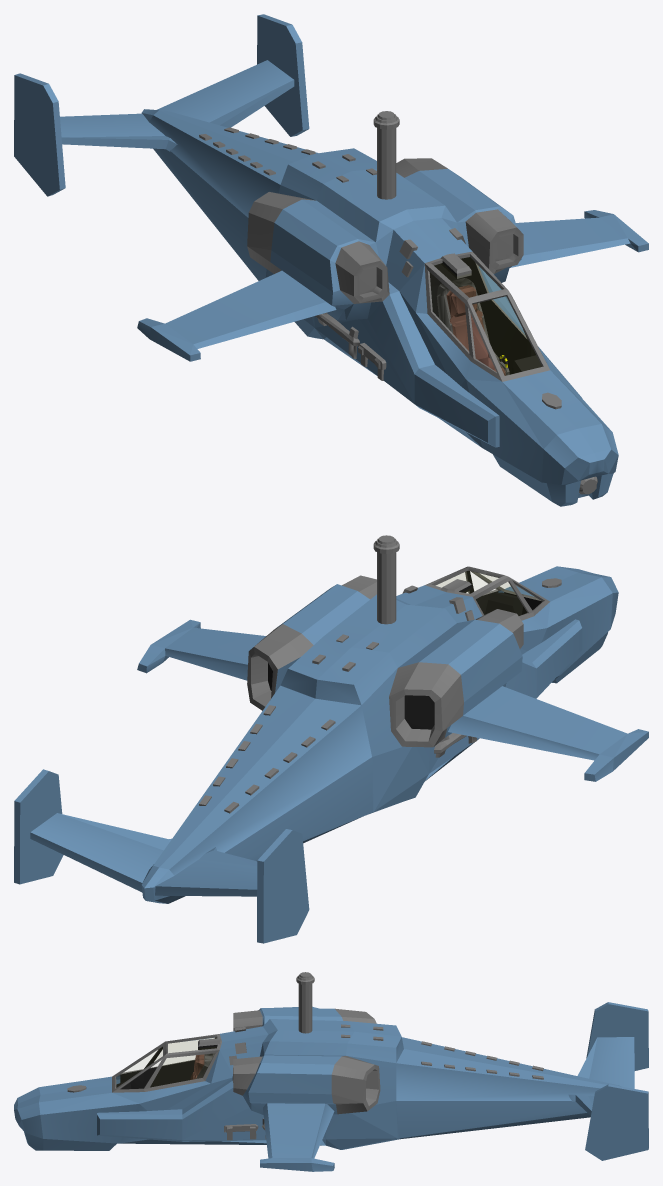
The model's file is aircraft 13.glb.
The picture shows the model from 3 angles, top to bottom: view 1: azimuth 30°, elevation 25°; view 2: azimuth 150°, elevation 25°; view 3: azimuth 270°, elevation 25°; orthographic projection. The views are drawn at different scales.
Visible parts, largest first — view 1: fuselage, ejection seat, RotorShaft; view 2: fuselage, RotorShaft, instrument panel; view 3: fuselage, RotorShaft, ejection seat.
Part boxes in pixels (<box>): fuselage: <box>14,14,648,506</box>; ejection seat: <box>436,278,509,375</box>; RotorShaft: <box>373,111,399,199</box>; fuselage: <box>14,566,648,943</box>; RotorShaft: <box>373,535,399,624</box>; instrument panel: <box>485,592,522,615</box>; fuselage: <box>14,1002,648,1171</box>; RotorShaft: <box>296,972,314,1033</box>; ejection seat: <box>190,1053,214,1079</box>.
Bounding box in the file's own units: 7.27 × 3.67 × 12.47.
